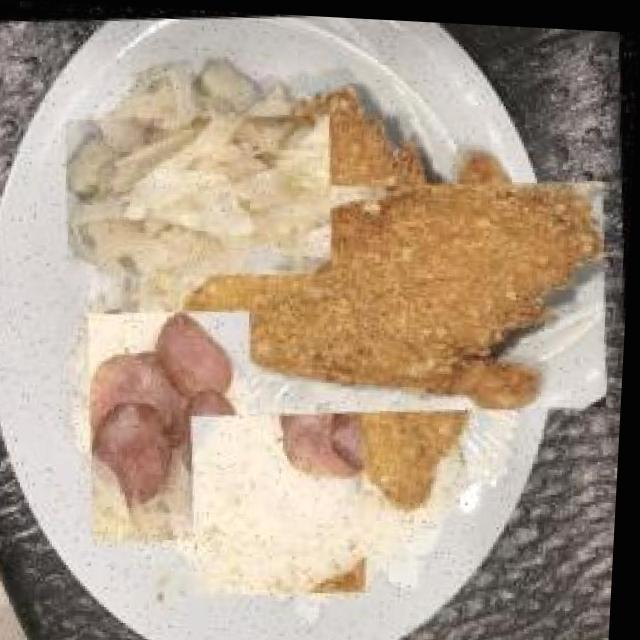chinese_cabbage: (83, 79, 317, 313)
chinese_sausage: (83, 302, 271, 550)
fried_chicken: (217, 115, 576, 474)
rice: (186, 404, 382, 599)
